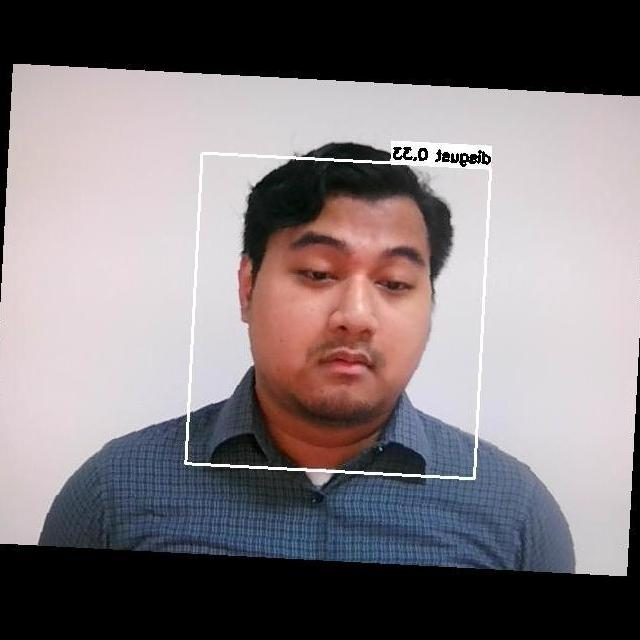Fear: (250, 201, 439, 404)
